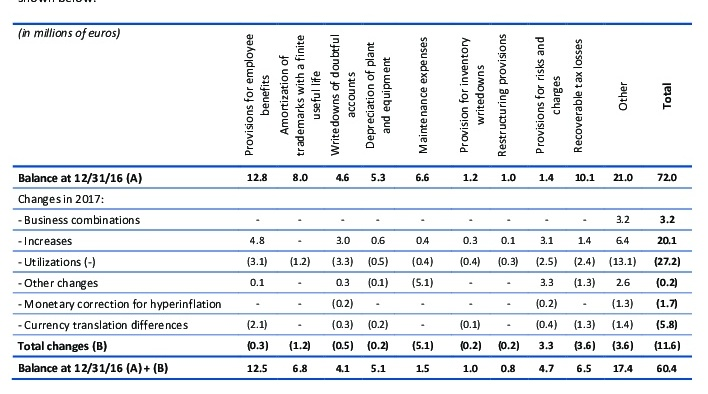table: (0, 0, 708, 394)
